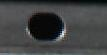holes: (25, 11, 68, 44)
